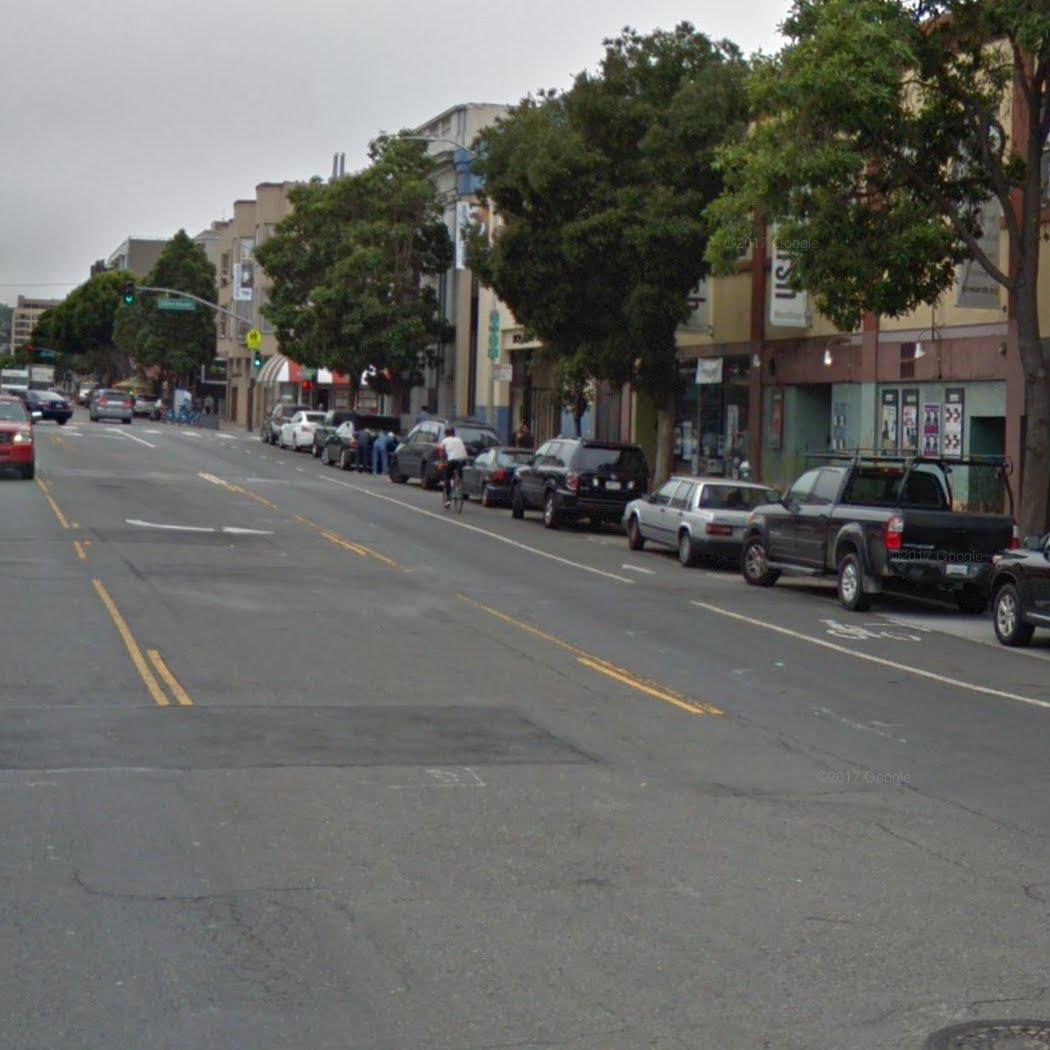No Parking: (490, 363, 515, 383)
